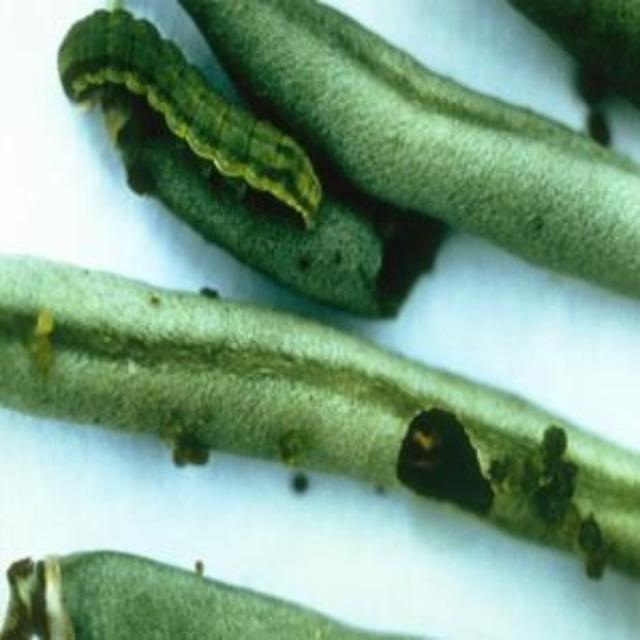Cotton bollworm: (38, 4, 360, 240)
